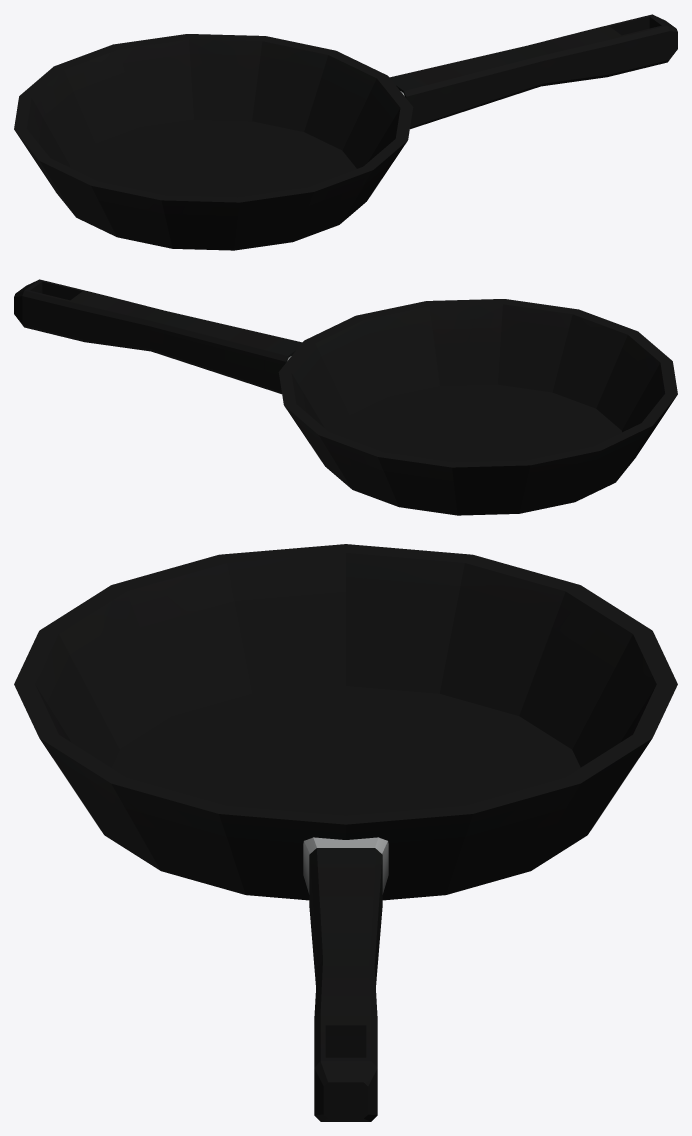
The model's file is Cooking_Pan.fbx.
3 views of the same model, one above another, from view 1: azimuth 30°, elevation 25°; view 2: azimuth 150°, elevation 25°; view 3: azimuth 270°, elevation 25° (orthographic). The views are drawn at different scales.
Visible parts, largest first — view 1: Cooking_Pan; view 2: Cooking_Pan; view 3: Cooking_Pan.
Boxes of the visible parts, x1,y1,x2,y2 form: Cooking_Pan: (14,14,677,250); Cooking_Pan: (14,279,677,515); Cooking_Pan: (14,544,677,1121).
Bounding box in the file's own units: 46.14 × 4.62 × 25.46.
